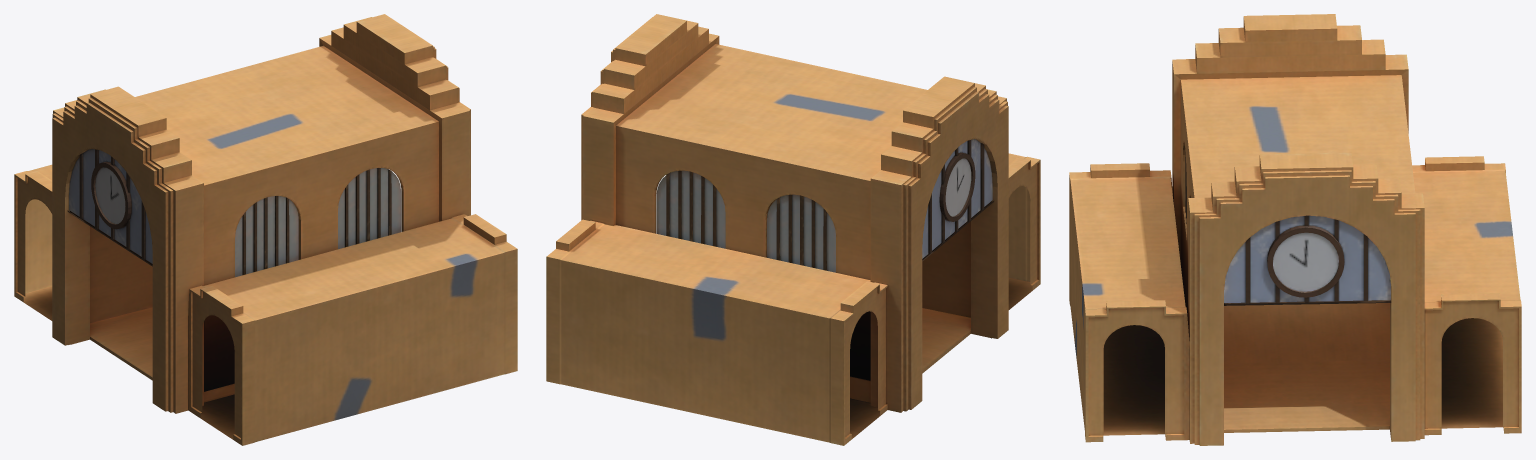
File: trainstation.glb
The picture shows the model from 3 angles, left to right: view 1: azimuth 30°, elevation 25°; view 2: azimuth 150°, elevation 25°; view 3: azimuth 270°, elevation 25°; orthographic projection. The views are drawn at different scales.
Parts seen in each view (by area): view 1: GARE-FINAL_BAKED.001; view 2: GARE-FINAL_BAKED.001; view 3: GARE-FINAL_BAKED.001.
Part boxes in pixels (<box>): GARE-FINAL_BAKED.001: <box>14,14,517,445</box>; GARE-FINAL_BAKED.001: <box>546,14,1040,445</box>; GARE-FINAL_BAKED.001: <box>1069,14,1521,445</box>.
Bounding box in the file's own units: 3.95 × 3.08 × 4.62.
Materials: 1 (1 with a texture image).
